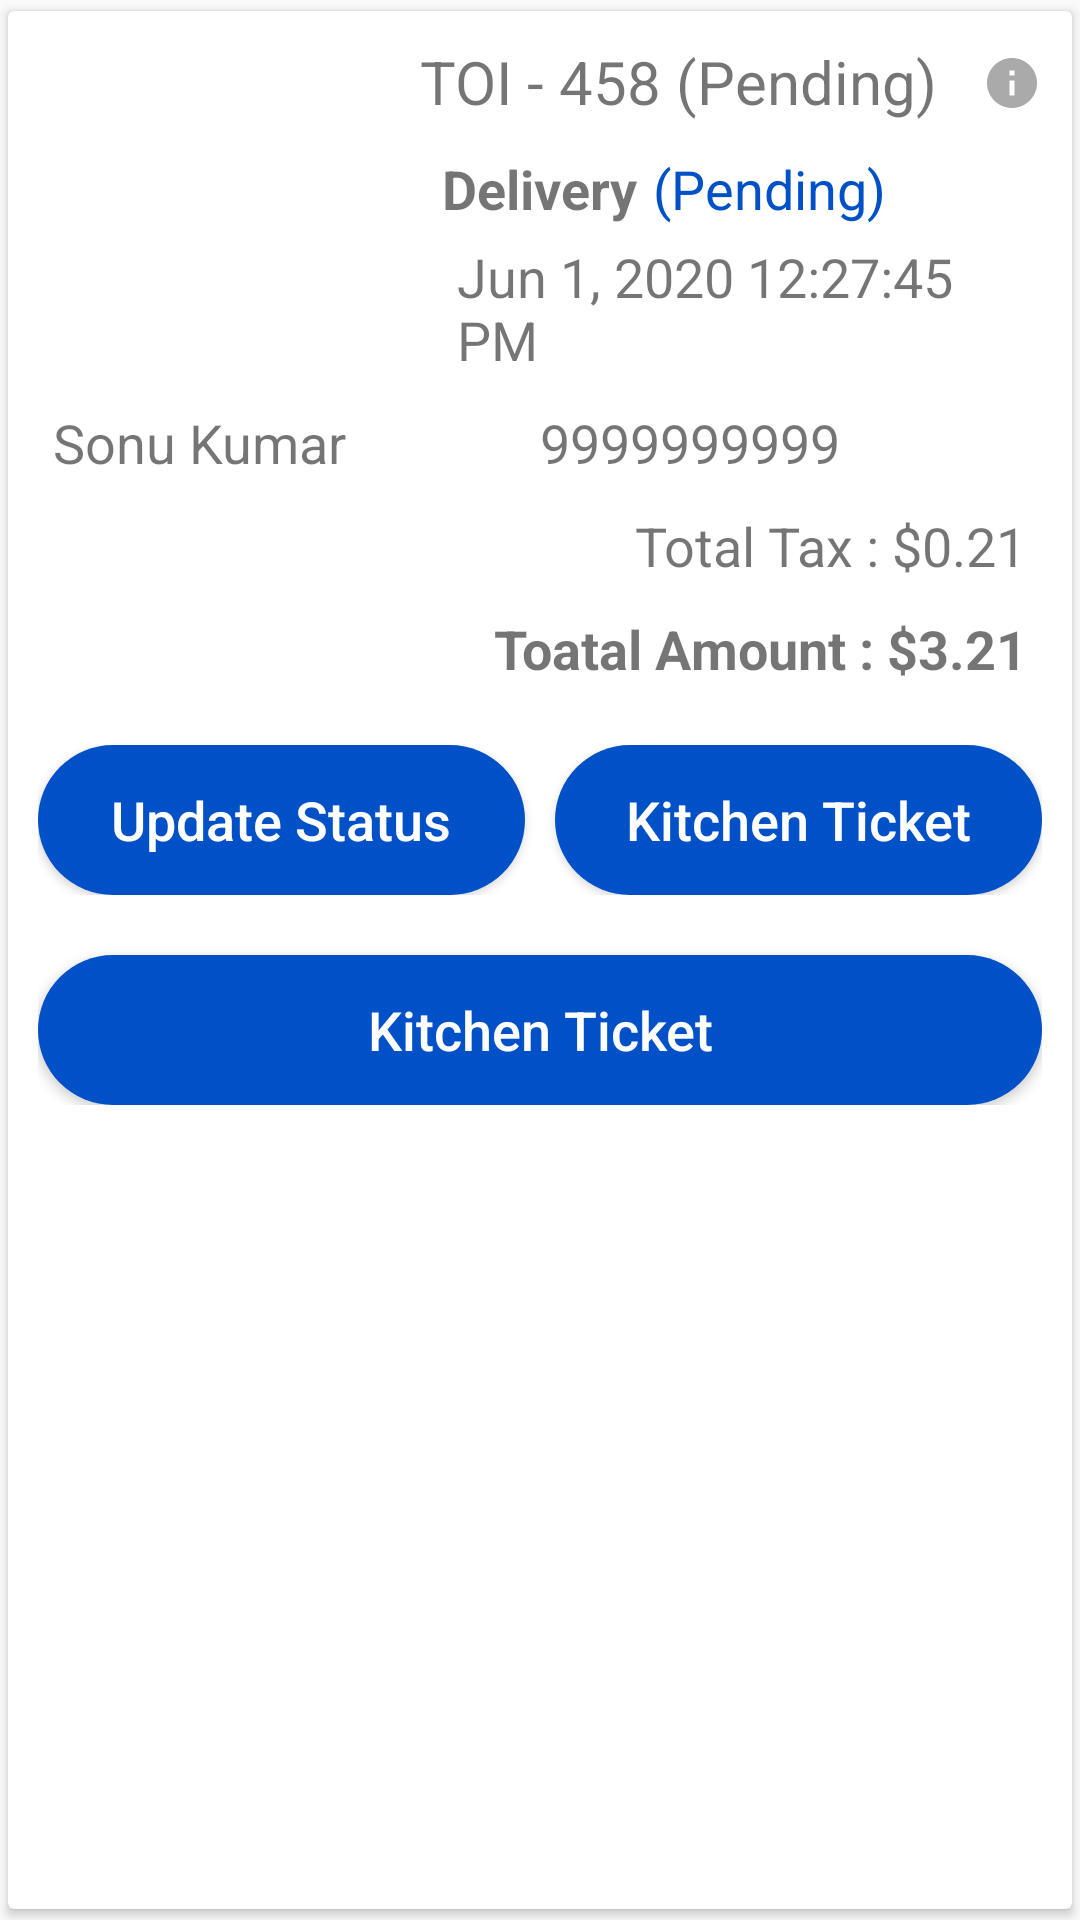

Screen size 1080px×1920px. Icon name, then its center in pixels as (x,y):
info: (1012,83)
